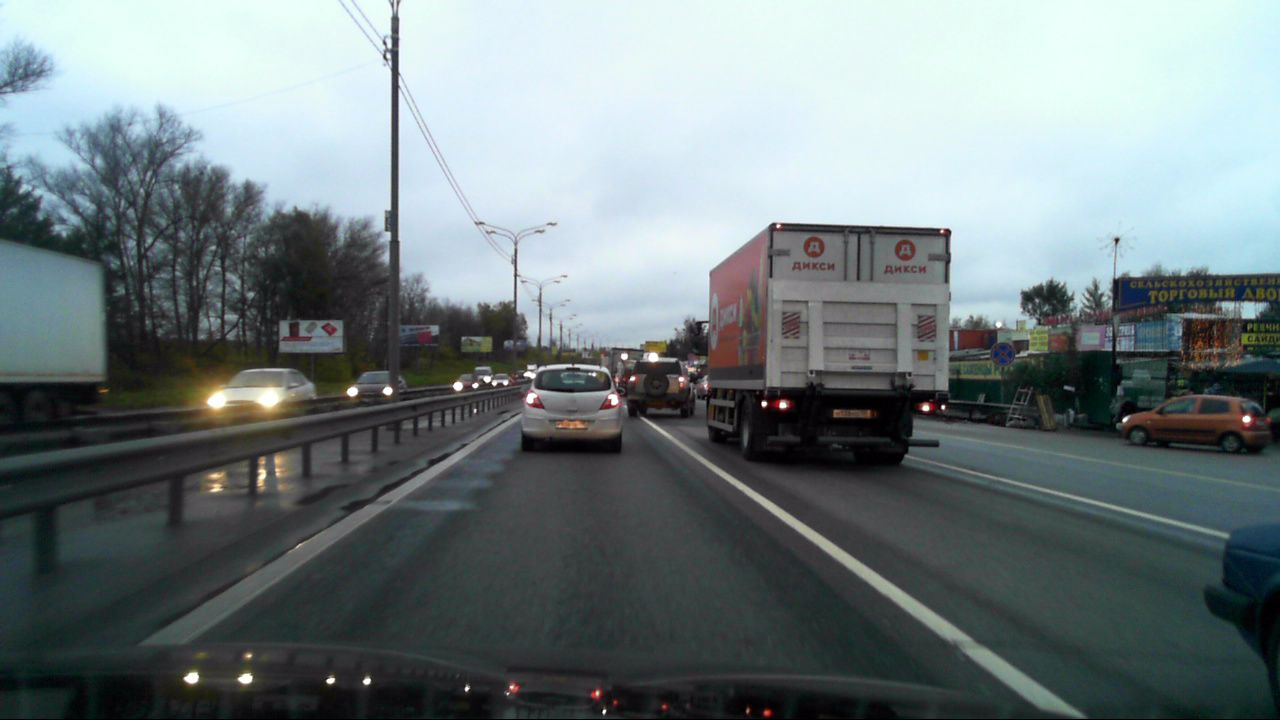No Parking: (990, 342, 1014, 365)
